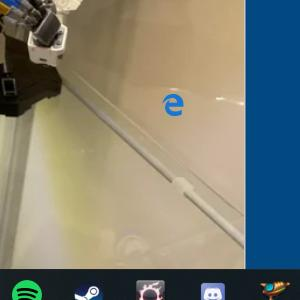edge: (162, 93, 184, 116)
